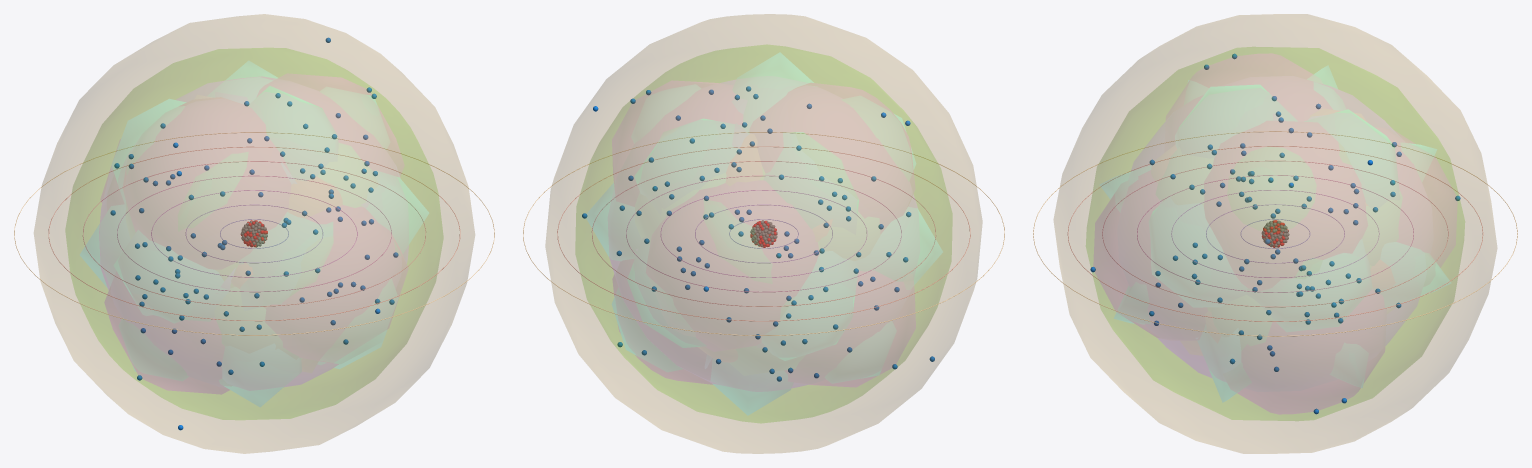
3 renders of one model, left to right at view 1: azimuth 30°, elevation 25°; view 2: azimuth 150°, elevation 25°; view 3: azimuth 270°, elevation 25°, orthographic.
Visible parts, largest first — view 1: Orbital_7s_0, Orbital_6s_0, Orbital_6p_1, Orbital_6d_2, Orbital_6d_3, Nivel_n7, Nivel_n6, Orbital_5s_0, Nivel_n5, Nivel_n4; view 2: Orbital_7s_0, Orbital_6s_0, Orbital_6d_1, Orbital_6p_1, Orbital_6p_2, Nivel_n7, Nivel_n6, Nivel_n5, Orbital_6d_3, Nivel_n4; view 3: Orbital_7s_0, Orbital_6s_0, Orbital_6p_2, Orbital_6p_0, Orbital_5s_0, Nivel_n7, Orbital_6d_3, Nivel_n6, Nivel_n5, Nivel_n4.
Boxes of the visible parts, bbox=[...] form: Orbital_7s_0: bbox=[34, 14, 474, 453]; Orbital_6s_0: bbox=[65, 48, 443, 419]; Orbital_6p_1: bbox=[105, 74, 403, 393]; Orbital_6d_2: bbox=[80, 61, 428, 406]; Orbital_6d_3: bbox=[112, 99, 381, 368]; Nivel_n7: bbox=[14, 132, 494, 335]; Nivel_n6: bbox=[48, 146, 460, 321]; Orbital_5s_0: bbox=[99, 77, 408, 386]; Nivel_n5: bbox=[82, 161, 426, 306]; Nivel_n4: bbox=[117, 175, 391, 292]; Orbital_7s_0: bbox=[545, 14, 982, 453]; Orbital_6s_0: bbox=[575, 45, 952, 422]; Orbital_6d_1: bbox=[587, 53, 941, 414]; Orbital_6p_1: bbox=[612, 81, 915, 386]; Orbital_6p_2: bbox=[613, 83, 914, 383]; Nivel_n7: bbox=[523, 132, 1004, 335]; Nivel_n6: bbox=[557, 146, 970, 321]; Nivel_n5: bbox=[591, 161, 936, 306]; Orbital_6d_3: bbox=[628, 133, 858, 347]; Nivel_n4: bbox=[626, 175, 901, 292]; Orbital_7s_0: bbox=[1053, 14, 1497, 453]; Orbital_6s_0: bbox=[1086, 47, 1464, 420]; Orbital_6p_2: bbox=[1166, 54, 1384, 413]; Orbital_6p_0: bbox=[1094, 132, 1456, 337]; Orbital_5s_0: bbox=[1131, 84, 1418, 377]; Nivel_n7: bbox=[1033, 131, 1517, 336]; Orbital_6d_3: bbox=[1100, 66, 1450, 401]; Nivel_n6: bbox=[1067, 146, 1483, 321]; Nivel_n5: bbox=[1102, 160, 1448, 307]; Nivel_n4: bbox=[1137, 175, 1413, 292].
Size of the model in its own units: 2.1 by 1.93 by 2.1.
